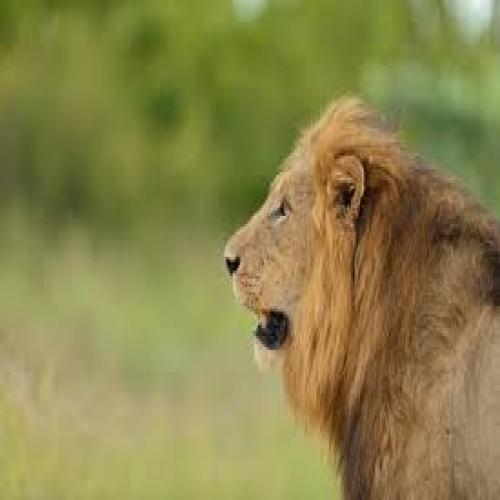lion-endangered: (220, 93, 498, 500)
